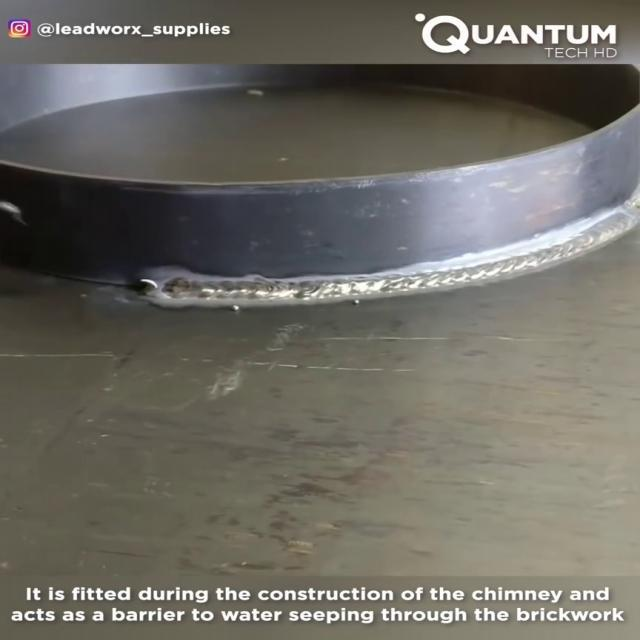Good Weld: (430, 218, 638, 278), (161, 276, 509, 300)
